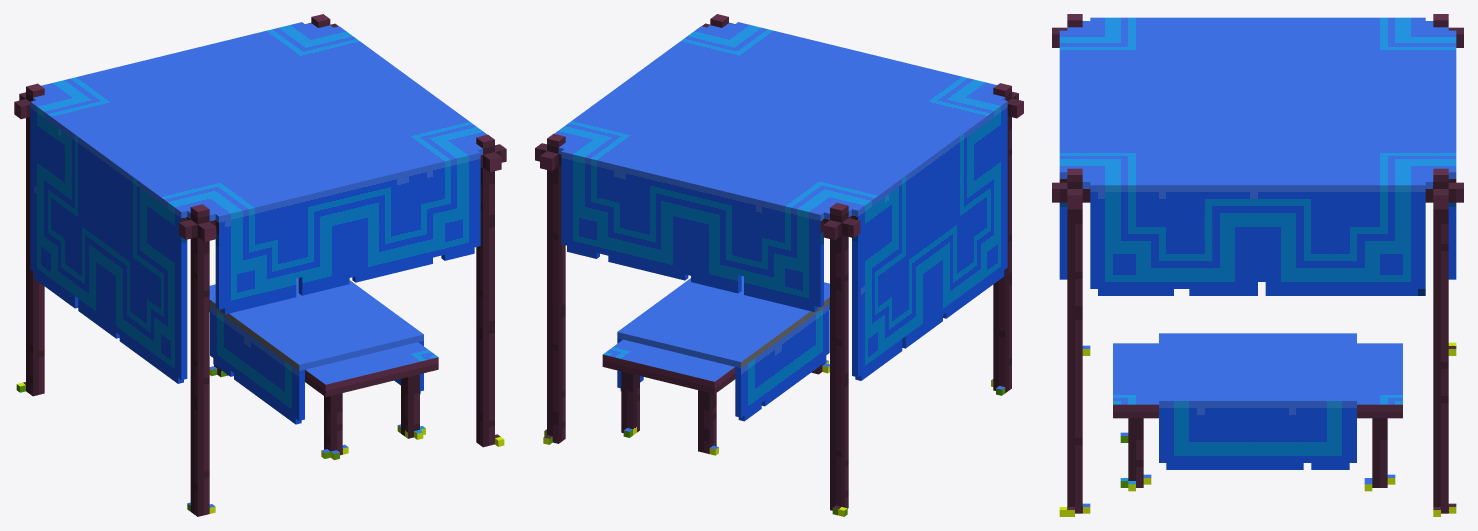
Rendered from zu_kiosk_bao.fezao.glb.
3 views of the same model, side by side, from view 1: azimuth 30°, elevation 25°; view 2: azimuth 150°, elevation 25°; view 3: azimuth 270°, elevation 25° (orthographic). The views are drawn at different scales.
Parts seen in each view (by area): view 1: ZU_KIOSK_BAO; view 2: ZU_KIOSK_BAO; view 3: ZU_KIOSK_BAO.
Part boxes in pixels (left/top/right/bottom): ZU_KIOSK_BAO: left=14, top=14, right=506, bottom=516; ZU_KIOSK_BAO: left=535, top=14, right=1023, bottom=516; ZU_KIOSK_BAO: left=1052, top=14, right=1463, bottom=516.
Bounding box in the file's own units: 3.38 × 3.06 × 3.38.
1 material, 1 textured.
